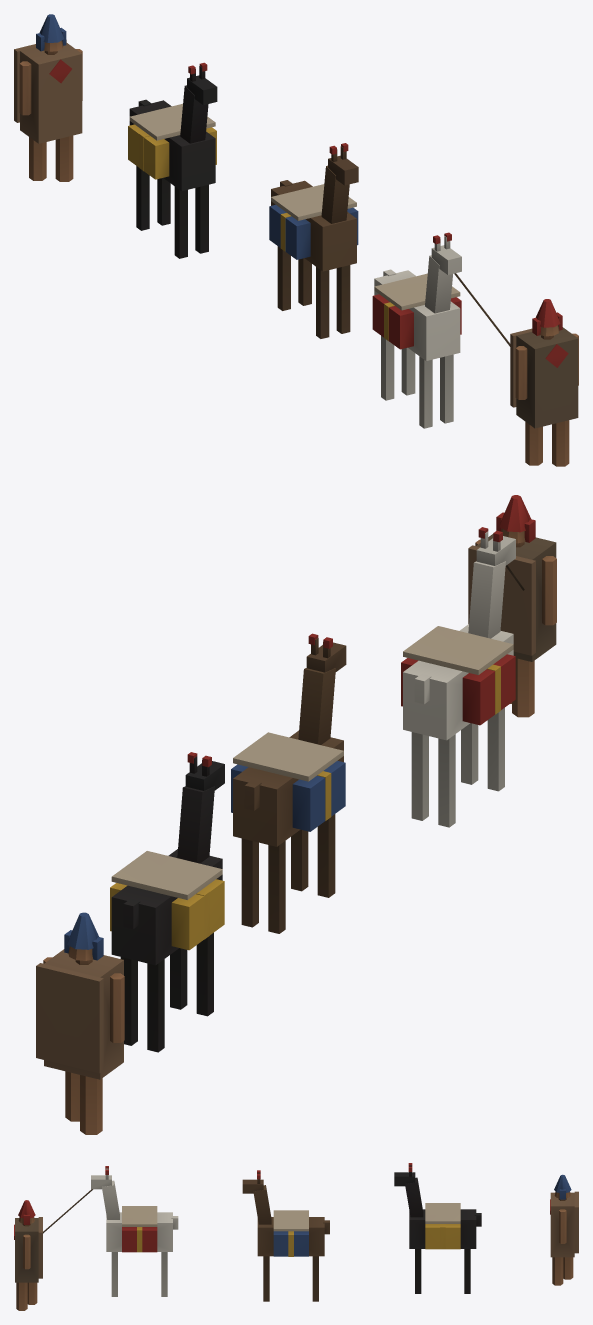
Rendered from wagon.glb.
The picture shows the model from 3 angles, top to bottom: view 1: azimuth 30°, elevation 25°; view 2: azimuth 150°, elevation 25°; view 3: azimuth 270°, elevation 25°; orthographic projection. The views are drawn at different scales.
Visible parts, largest first — view 1: base; view 2: base; view 3: base.
Part boxes in pixels (x1,y1,x2,y2): base: (14, 14, 578, 466); base: (36, 495, 556, 1134); base: (14, 1163, 578, 1310).
Bounding box in the file's own units: 1.49 × 1.94 × 8.01.
